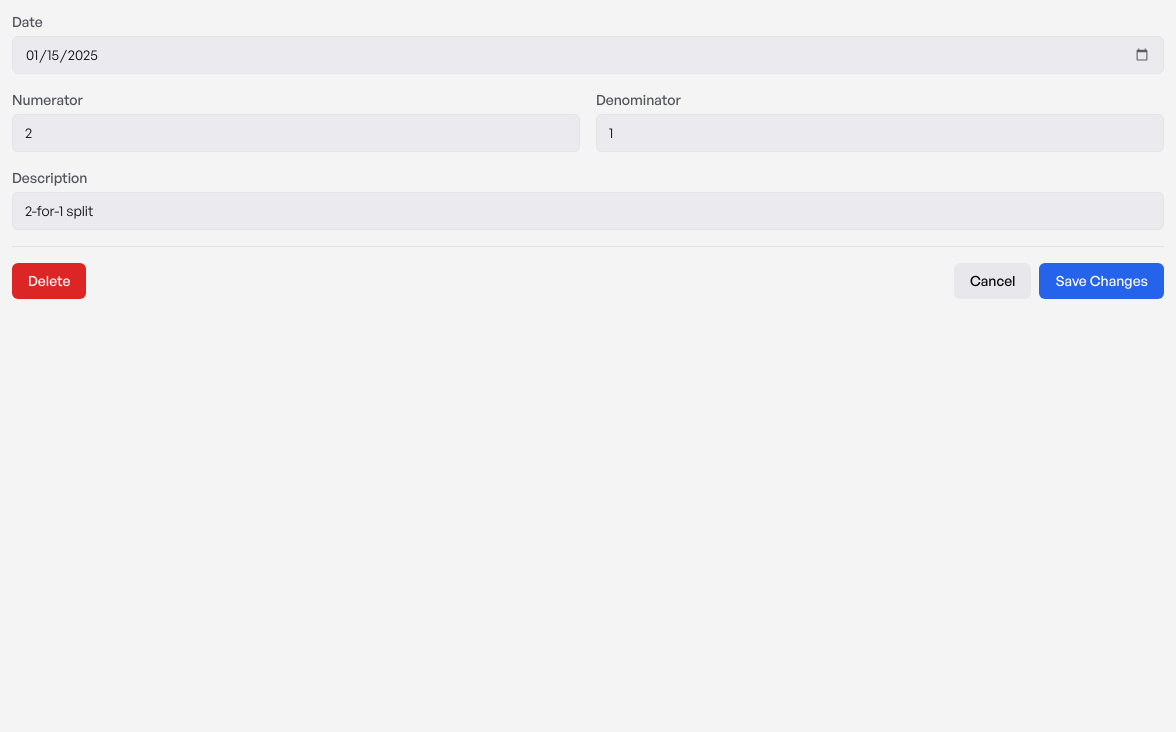
Scenario: StockSplitEditForm › alerts when the split ratio is invalid
Step 1. Type "0" into the number field labelled "Numerator" → (296, 133), box [12,114,580,152]
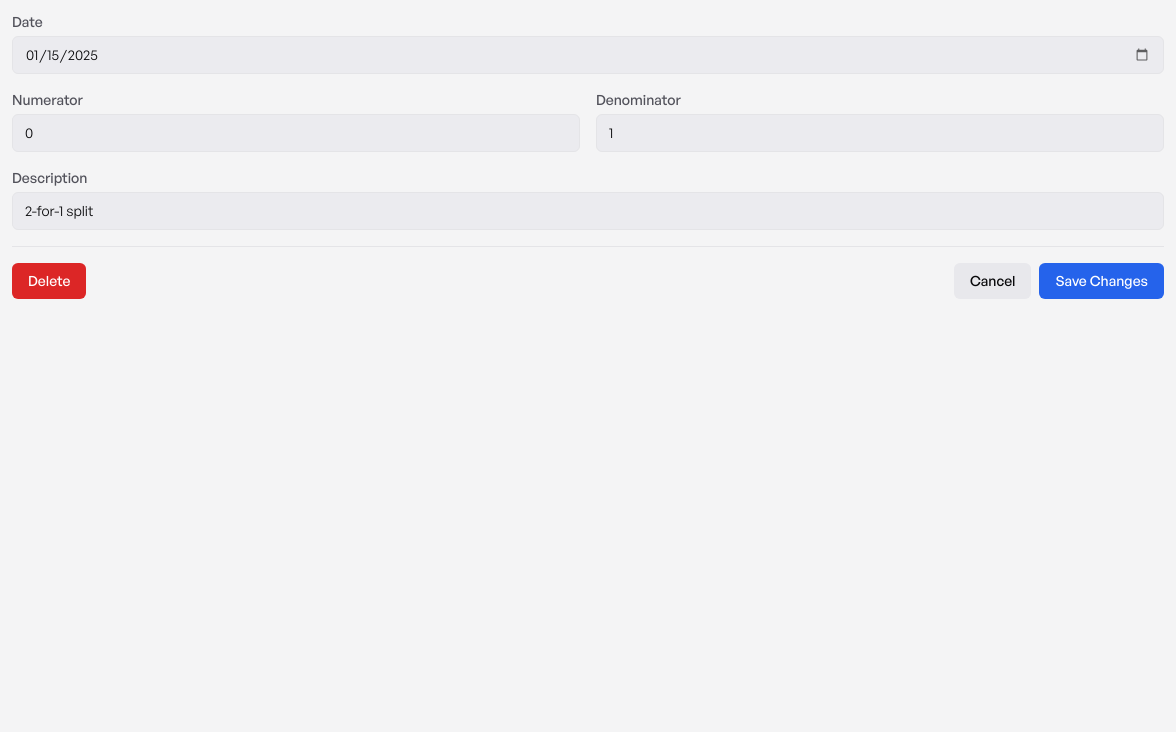
Step 2. Submit the form "Save Changes", box [12,12,1164,299]
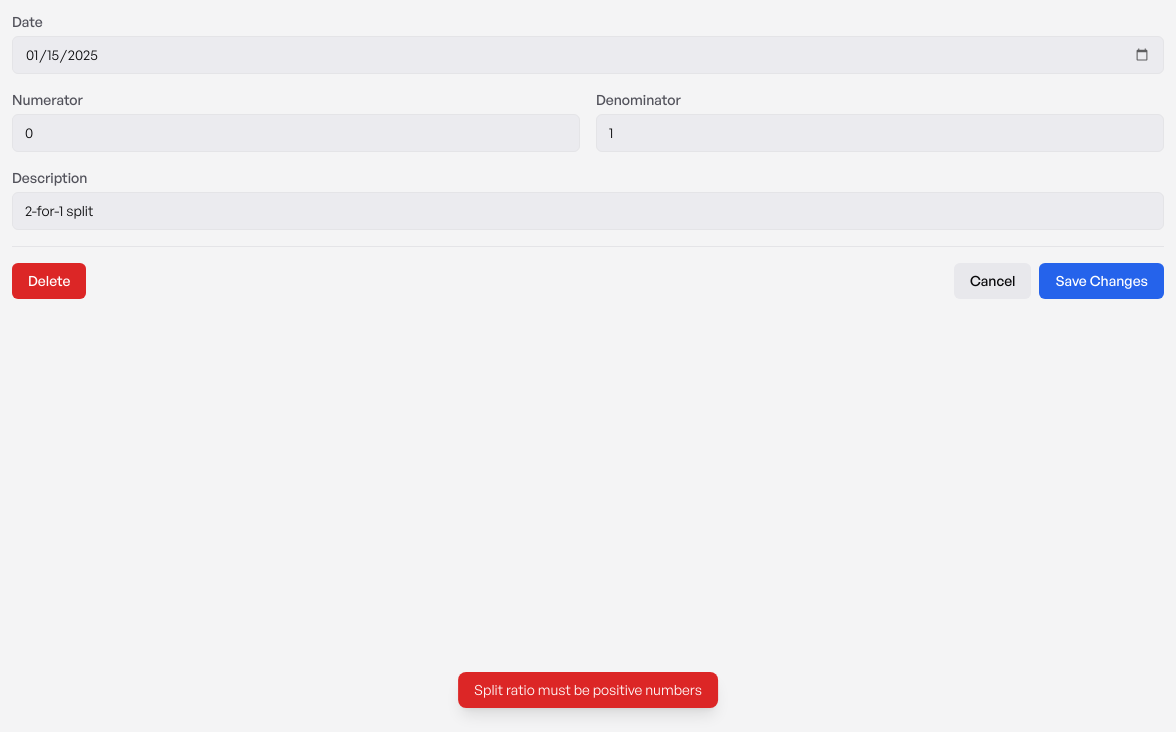
Now the text "Split ratio must be positive numbers" is shown, box [458,672,718,708]
